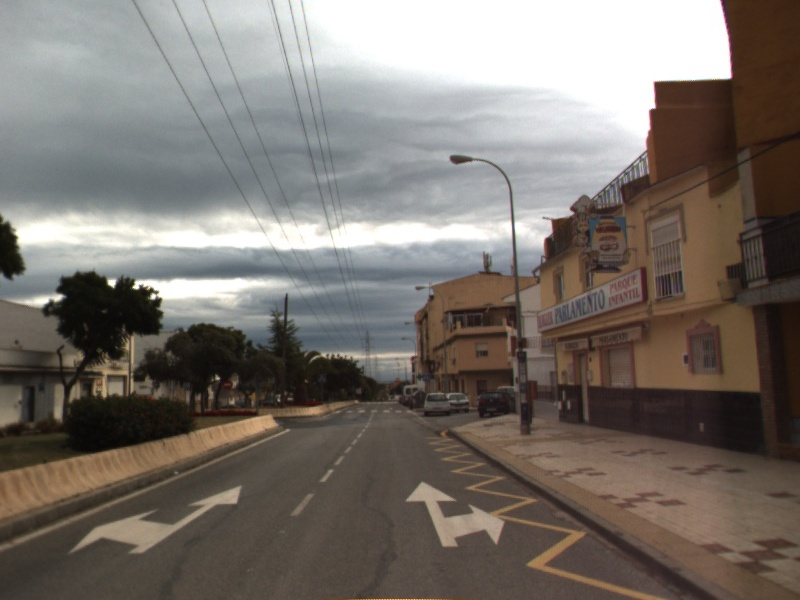STRAIGHT_LEFT: (66, 483, 244, 556)
STRAIGHT_RIGHT: (403, 478, 507, 549)
